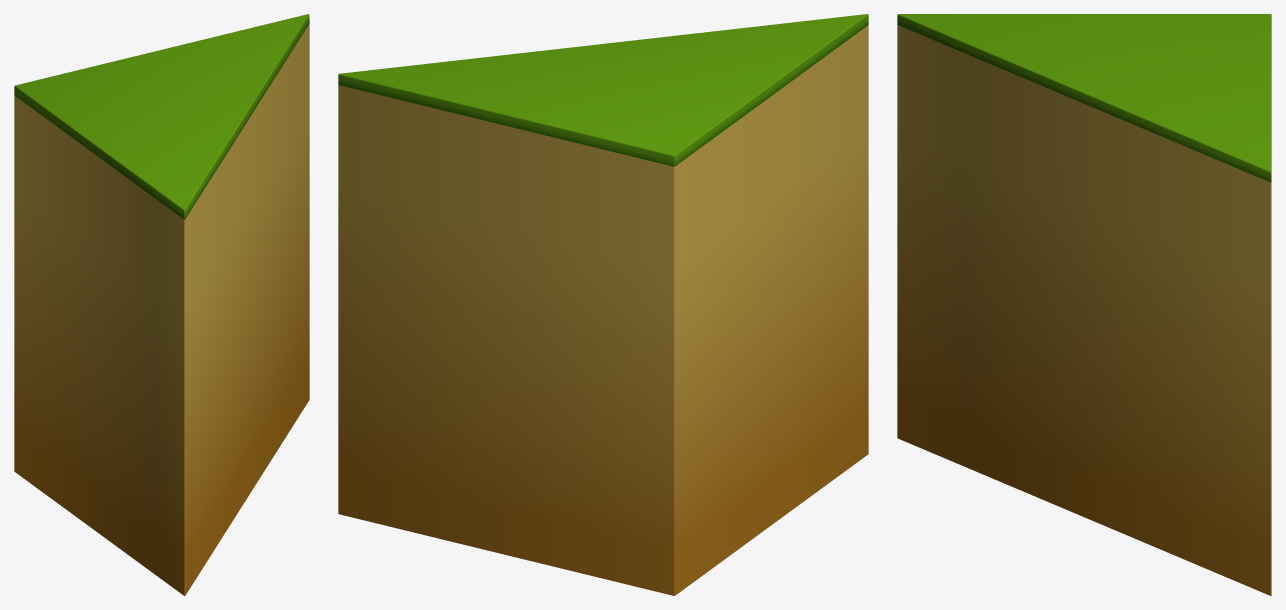
File: LM40TRI.fbx
3 views of the same model, side by side, from view 1: azimuth 30°, elevation 25°; view 2: azimuth 150°, elevation 25°; view 3: azimuth 270°, elevation 25° (orthographic). The views are drawn at different scales.
Parts seen in each view (by area): view 1: LOD0; view 2: LOD0; view 3: LOD0.
Part boxes in pixels (left/top/right/bottom): LOD0: left=14, top=14, right=309, bottom=595; LOD0: left=338, top=14, right=868, bottom=595; LOD0: left=897, top=14, right=1271, bottom=595.
Size of what is drawn, in the model's own units: 4000 by 4000 by 5000.
